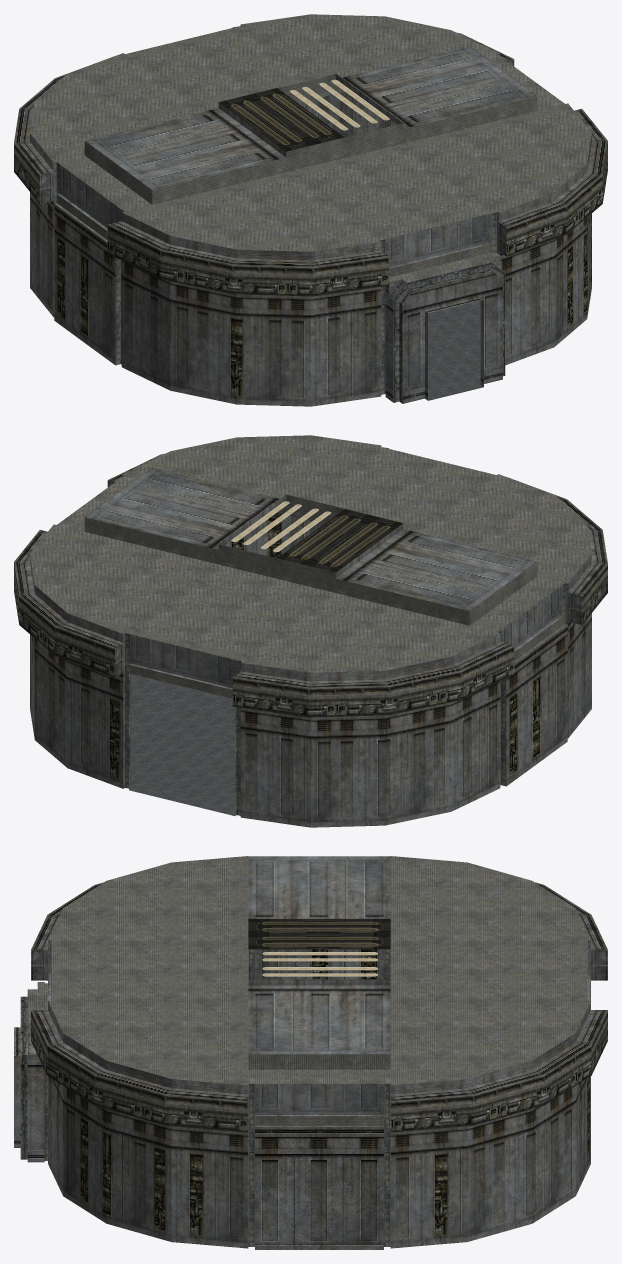
File: poi_all_impl_bunker_abandoned_s01_r7_guardroom_mesh.fbx
3 renders of one model, top to bottom at view 1: azimuth 30°, elevation 25°; view 2: azimuth 150°, elevation 25°; view 3: azimuth 270°, elevation 25°, orthographic. The views are drawn at different scales.
Parts seen in each view (by area): view 1: mesh_node; view 2: mesh_node; view 3: mesh_node.
Boxes of the visible parts, bbox=[...] form: mesh_node: bbox=[14, 14, 607, 406]; mesh_node: bbox=[14, 435, 607, 827]; mesh_node: bbox=[14, 856, 607, 1249].
Bounding box in the file's own units: 17 × 6 × 17.5.
